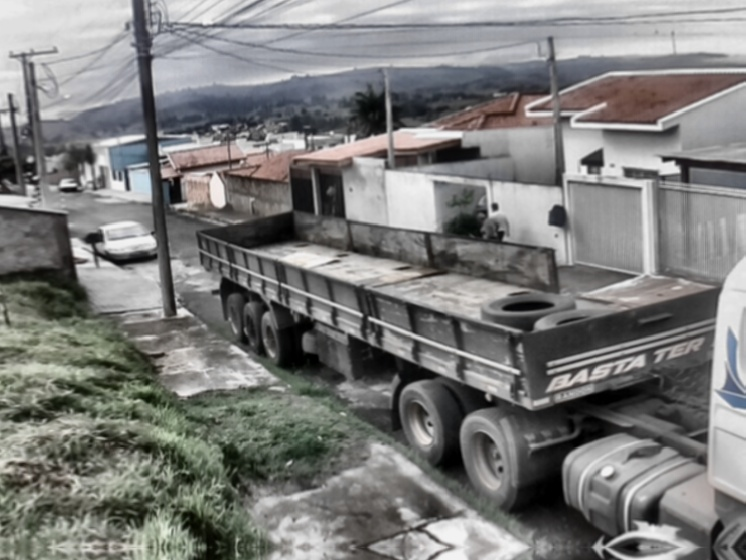person: (485, 202, 512, 244)
